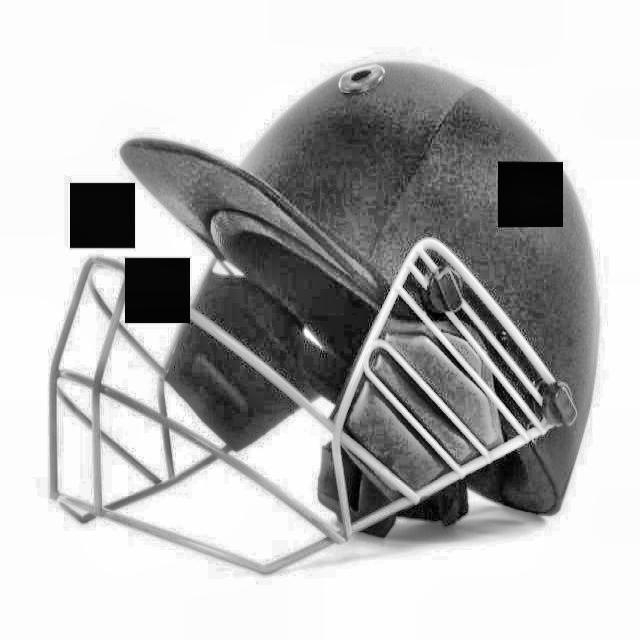Helmet: (52, 43, 596, 574)
